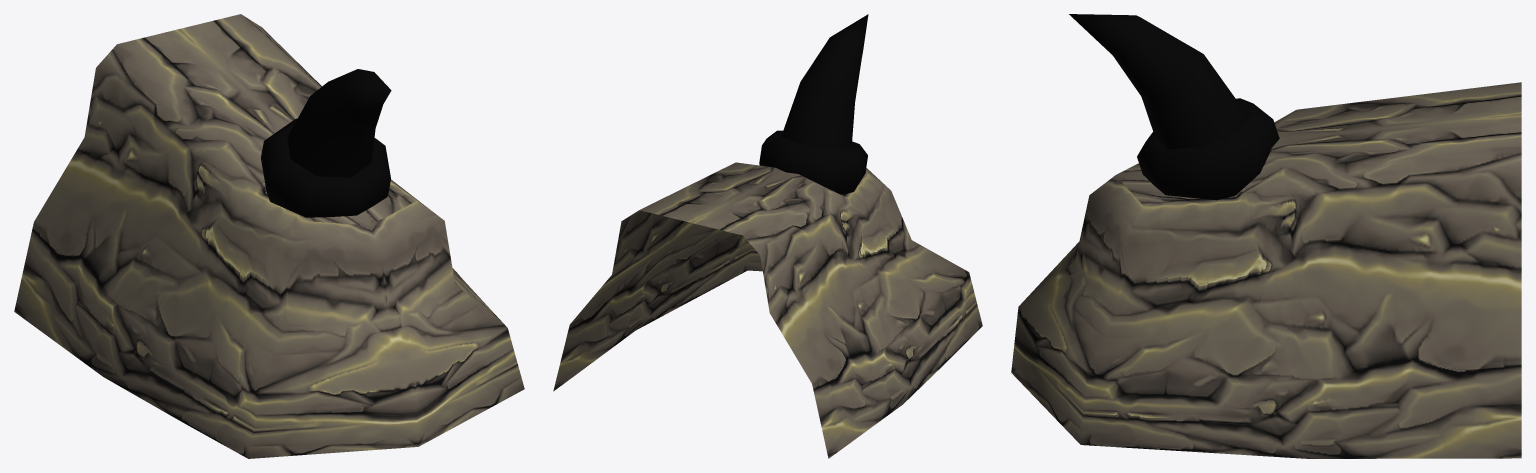
File: Wall_TileEdge_Connector_LevelEdge_01.FBX
3 views of the same model, side by side, from view 1: azimuth 30°, elevation 25°; view 2: azimuth 150°, elevation 25°; view 3: azimuth 270°, elevation 25° (orthographic). The views are drawn at different scales.
Parts seen in each view (by area): view 1: Wall_TileEdge_Connector_LevelEdge_01; view 2: Wall_TileEdge_Connector_LevelEdge_01; view 3: Wall_TileEdge_Connector_LevelEdge_01.
Part boxes in pixels (x1,y1,x2,y2): Wall_TileEdge_Connector_LevelEdge_01: [14, 14, 524, 458]; Wall_TileEdge_Connector_LevelEdge_01: [553, 14, 982, 458]; Wall_TileEdge_Connector_LevelEdge_01: [1011, 14, 1521, 458].
Bounding box in the file's own units: 4.28 × 4.17 × 5.37.
